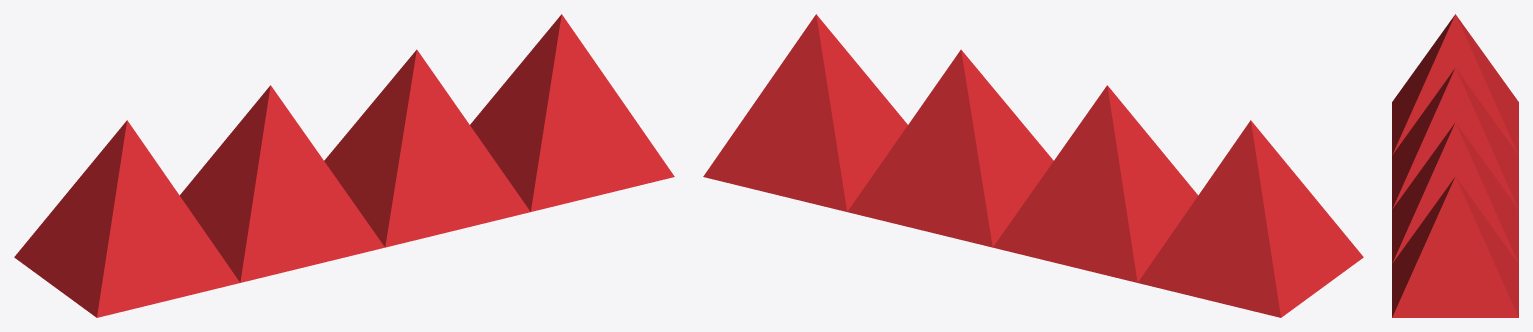
The model's file is Engel.fbx.
3 renders of one model, left to right at view 1: azimuth 30°, elevation 25°; view 2: azimuth 150°, elevation 25°; view 3: azimuth 270°, elevation 25°, orthographic. The views are drawn at different scales.
Visible parts, largest first — view 1: engel; view 2: engel; view 3: engel.
Part boxes in pixels (x1,y1,x2,y2): engel: (14, 14, 674, 317); engel: (703, 14, 1363, 317); engel: (1392, 14, 1518, 317).
Bounding box in the file's own units: 39.31 × 9.76 × 9.76.
